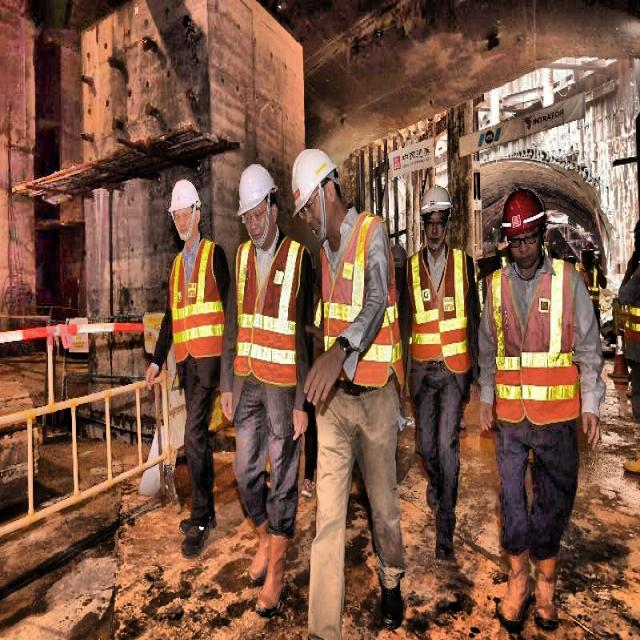safety_helmet: (289, 135, 341, 219), (219, 160, 284, 218), (500, 177, 551, 241), (409, 180, 456, 222), (165, 179, 205, 226)
safety_jacket: (483, 245, 580, 440), (313, 212, 397, 384), (232, 237, 306, 390), (408, 248, 464, 379), (168, 239, 225, 363)
